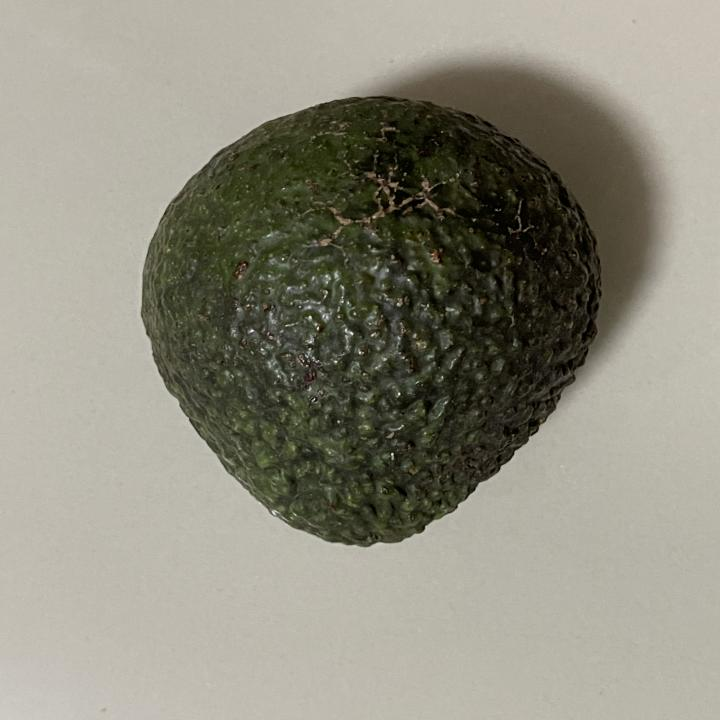Level1: (119, 84, 610, 562)
